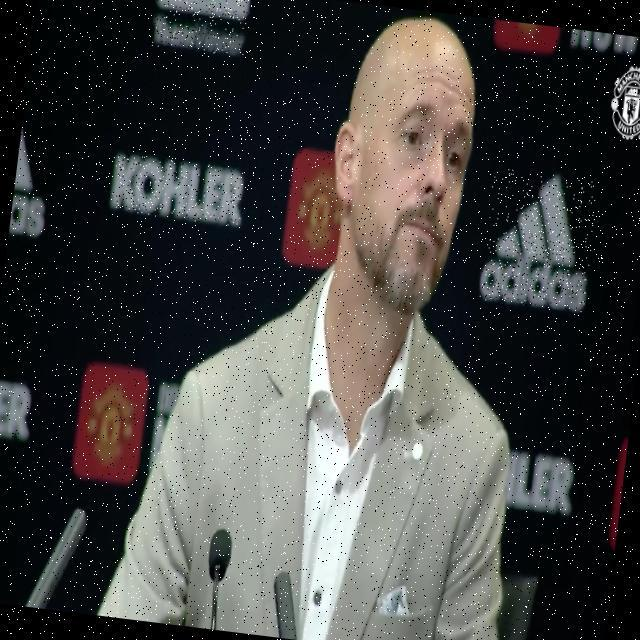Adidas: (478, 167, 600, 312)
Kohler: (107, 152, 247, 227)
TeamViewer: (151, 0, 251, 56)
